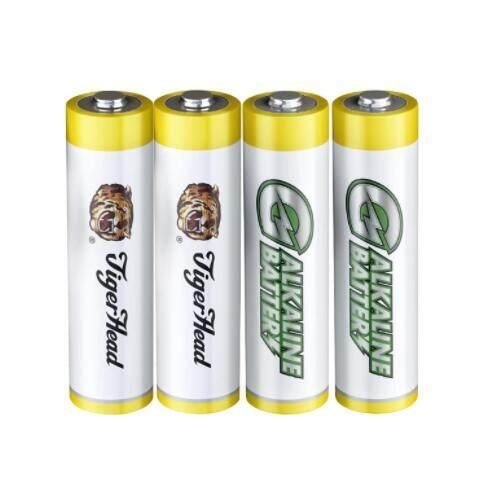AA: (58, 84, 157, 420), (150, 82, 247, 415), (247, 82, 336, 417), (337, 82, 426, 417)
